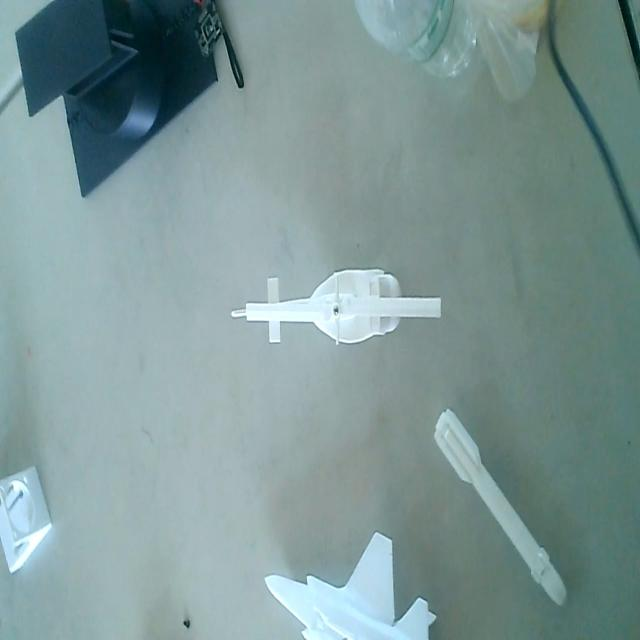Helicopter: (228, 264, 444, 348)
Jet: (262, 528, 438, 640)
Rocket: (433, 400, 572, 611)
